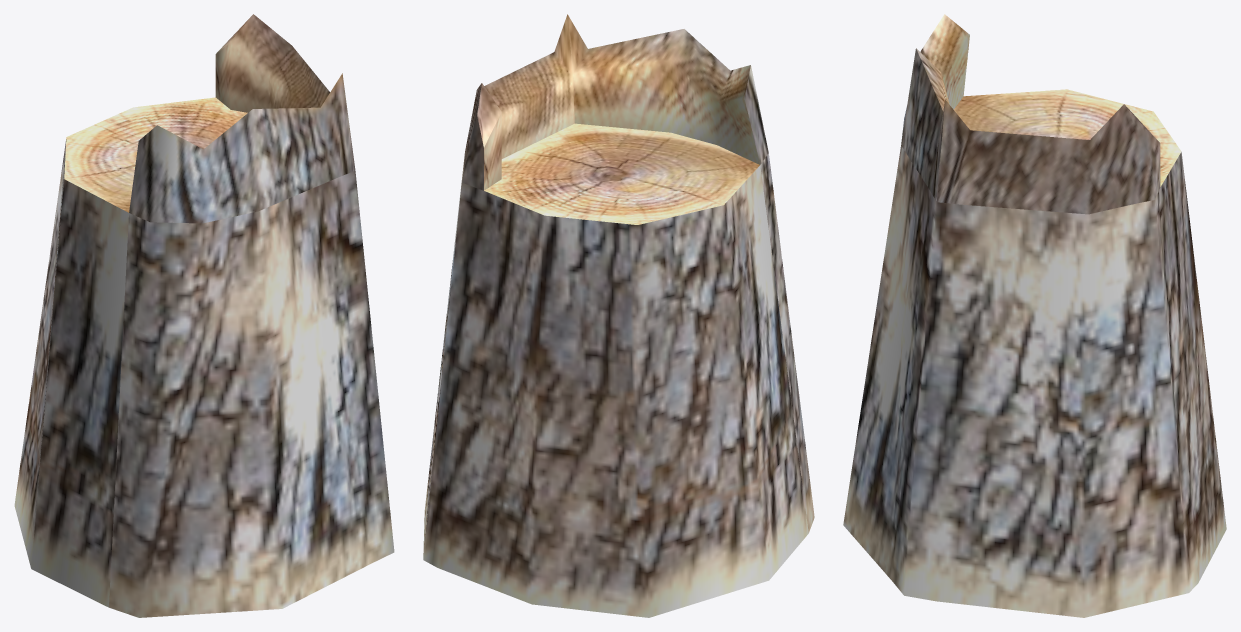
Rendered from TDTreeStumo.fbx.
3 renders of one model, left to right at view 1: azimuth 30°, elevation 25°; view 2: azimuth 150°, elevation 25°; view 3: azimuth 270°, elevation 25°, orthographic. The views are drawn at different scales.
Visible parts, largest first — view 1: pCube2; view 2: pCube2; view 3: pCube2.
Boxes of the visible parts, box(x1,y1,x2,y2) form: pCube2: box(14, 14, 394, 617); pCube2: box(423, 14, 814, 617); pCube2: box(843, 14, 1226, 617).
Size of the model in its own units: 1.84 by 2.49 by 1.8.
